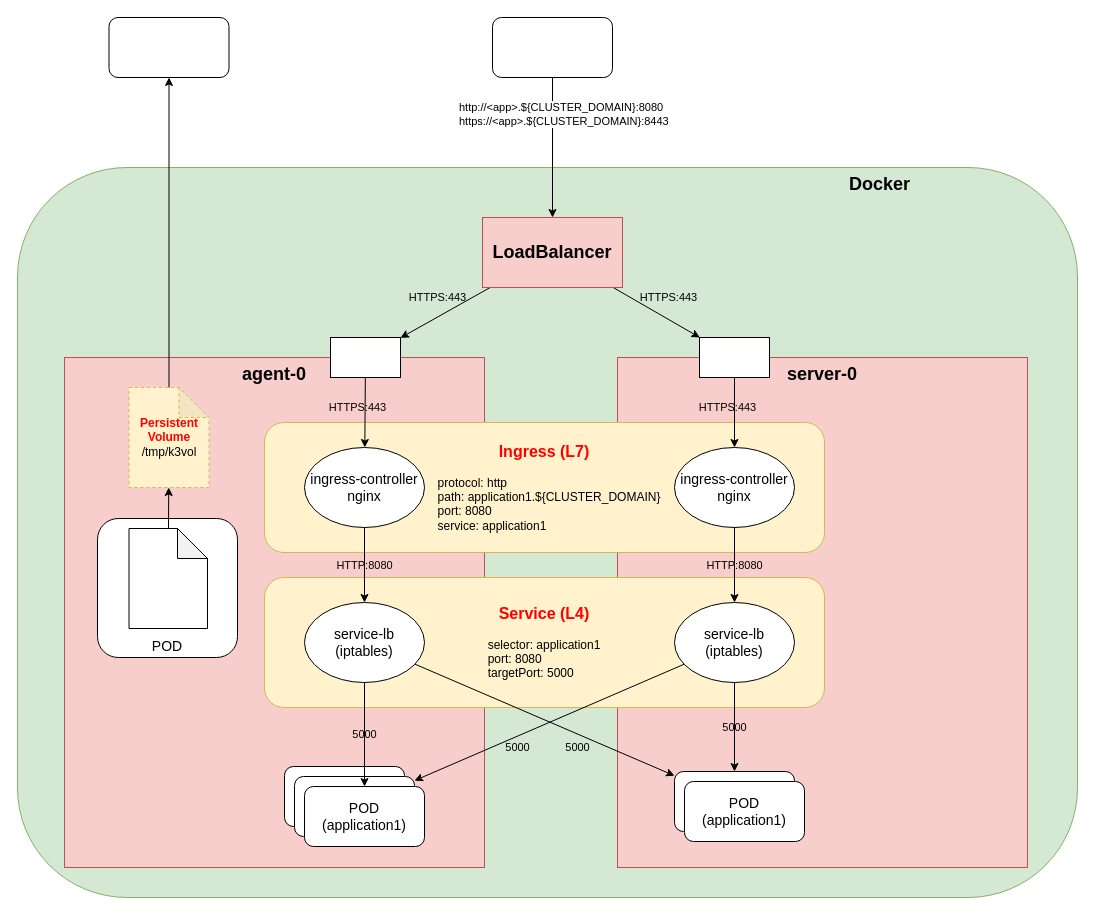
This 1095x915 diagram has some shape labels left out. The shapes that lost their labels are listed below. From the top down, each one's centre as x and y in pixels, then its label:
At [168,47]: "Local Path Provisioner $(pwd)//k3dvol".
At [552,47]: "external client".
At [365,357]: "ClusterIP1".
At [734,357]: "ClusterIP2".
At [168,578]: "Persistent Volume Claim".
